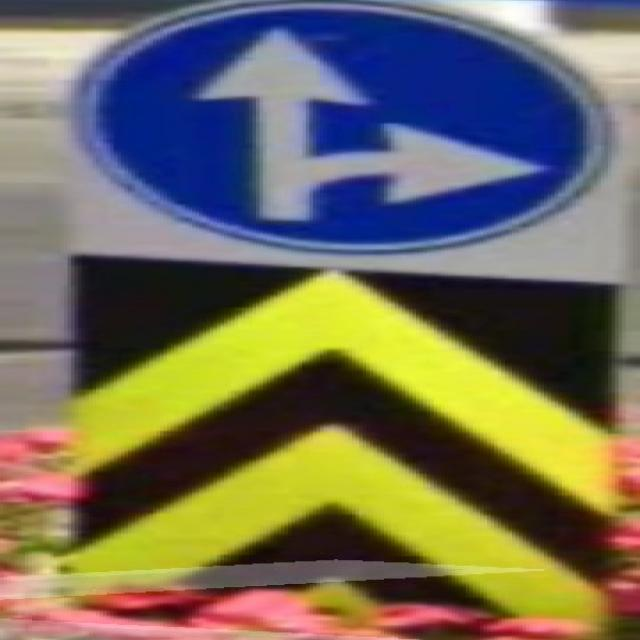Straight or Right: (88, 3, 597, 260)
